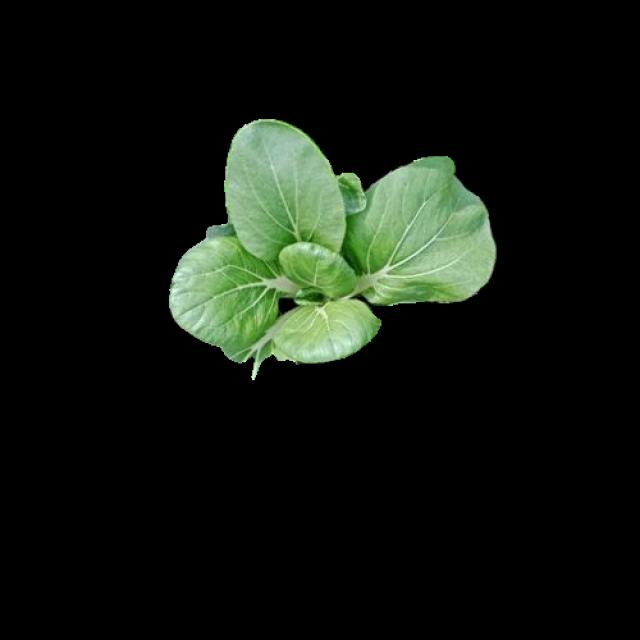healthy: (166, 116, 494, 361)
not-mature: (169, 119, 497, 364)
